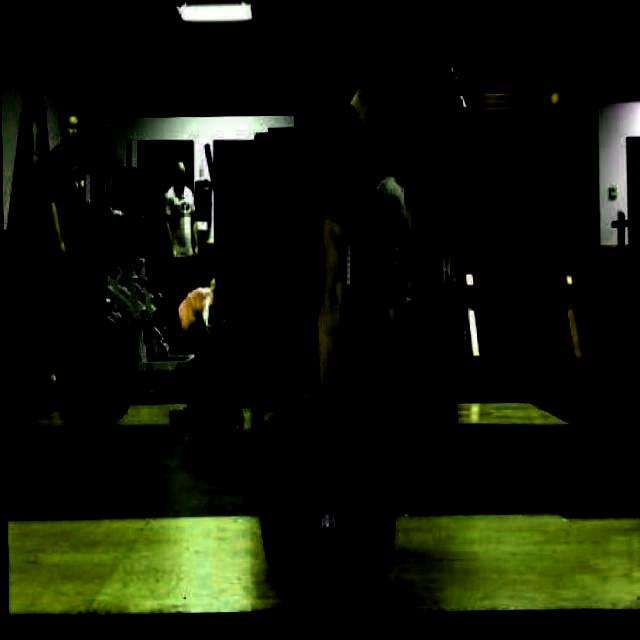barbell: (248, 382, 402, 632)
